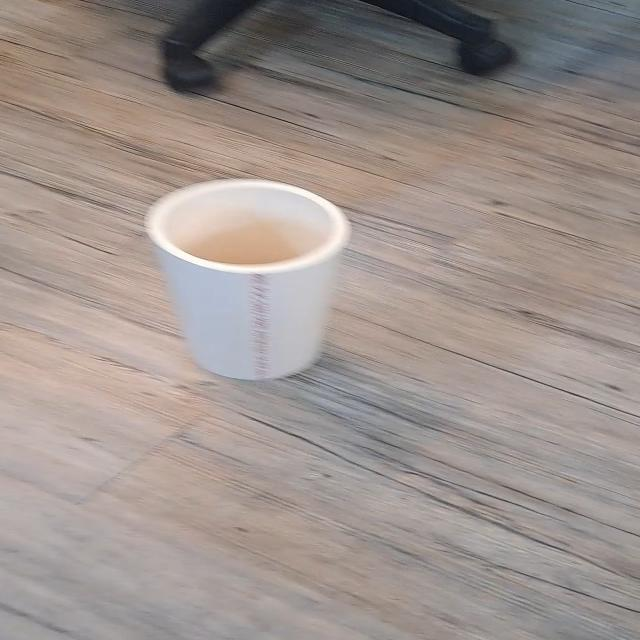CORAL: (137, 168, 366, 384)
